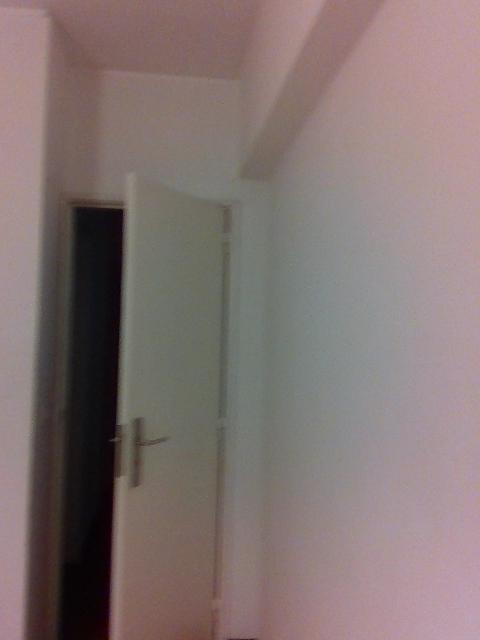semi_door: (41, 168, 241, 639)
